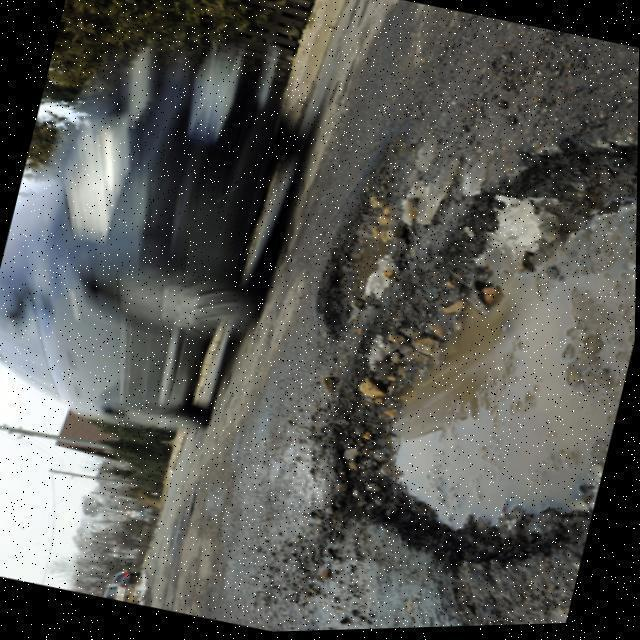Pothole: (327, 139, 638, 564), (308, 154, 427, 328)
